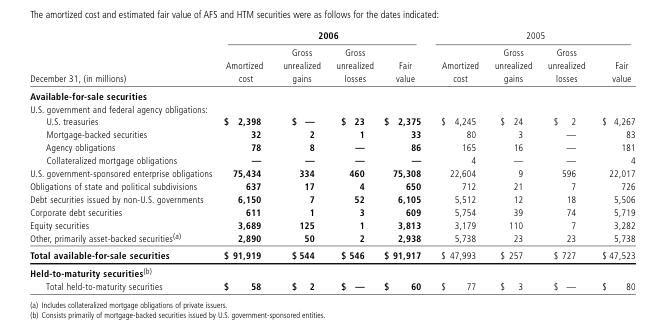table: (29, 29, 634, 291)
table column: (29, 29, 217, 291), (217, 29, 272, 291), (272, 29, 327, 291), (430, 29, 485, 291), (485, 29, 539, 291), (539, 29, 592, 291), (378, 29, 430, 291), (327, 29, 378, 291), (592, 29, 634, 291)
table column header: (29, 29, 634, 86)
table projected row header: (29, 262, 634, 278), (29, 86, 634, 101), (29, 101, 634, 114)
table row: (29, 43, 634, 86), (29, 230, 634, 246), (29, 246, 634, 262), (29, 262, 634, 278), (29, 86, 634, 101), (29, 29, 634, 43), (29, 101, 634, 114), (29, 114, 634, 127), (29, 127, 634, 140), (29, 140, 634, 153), (29, 153, 634, 166), (29, 166, 634, 179), (29, 179, 634, 192), (29, 192, 634, 205), (29, 205, 634, 218), (29, 278, 634, 291), (29, 218, 634, 230)
table spanning cell: (29, 29, 217, 86), (217, 29, 430, 43), (430, 29, 634, 43)
